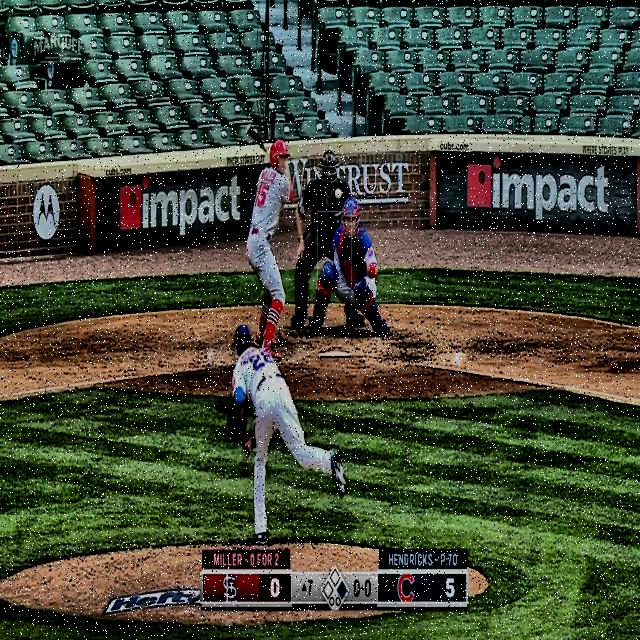baseball: (333, 187, 342, 200)
